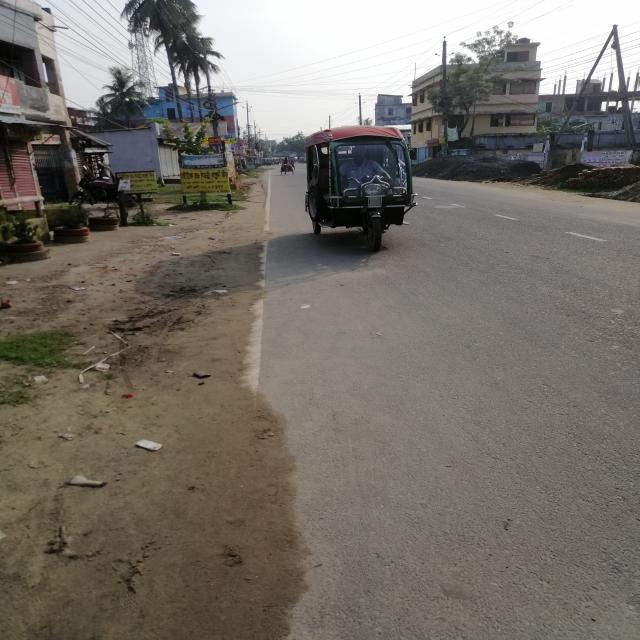Easybike: (296, 122, 432, 256)
